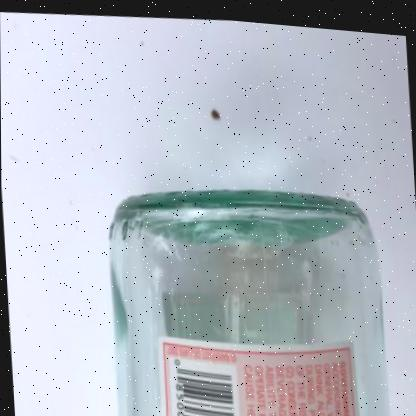Glass: (108, 185, 389, 416)
